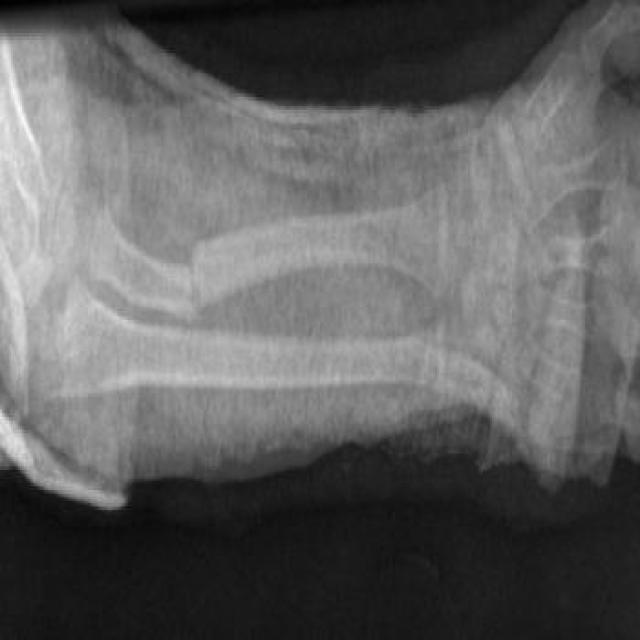Fracture: (182, 230, 211, 320)
